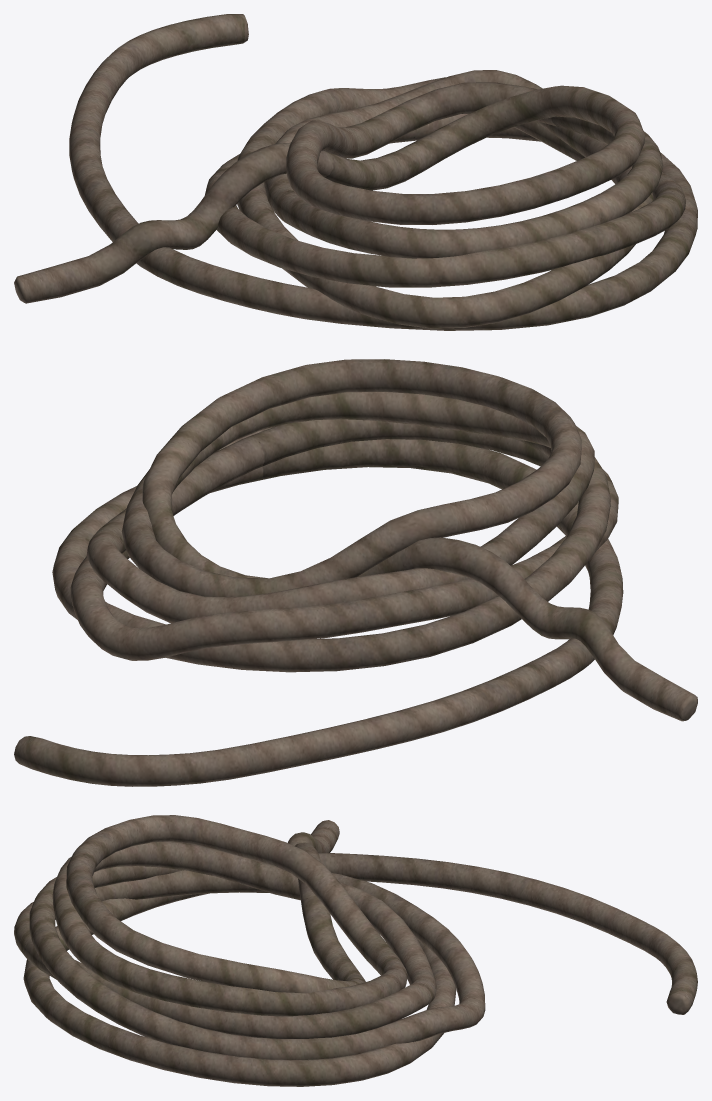
Rendered from Rope_Coil02.fbx.
The picture shows the model from 3 angles, top to bottom: view 1: azimuth 30°, elevation 25°; view 2: azimuth 150°, elevation 25°; view 3: azimuth 270°, elevation 25°; orthographic projection. The views are drawn at different scales.
Parts seen in each view (by area): view 1: Rope_Coil02; view 2: Rope_Coil02; view 3: Rope_Coil02.
Boxes of the visible parts, x1,y1,x2,y2 form: Rope_Coil02: (14,14,697,330); Rope_Coil02: (14,359,697,786); Rope_Coil02: (14,815,697,1086).
Bounding box in the file's own units: 90.88 × 20.13 × 103.
